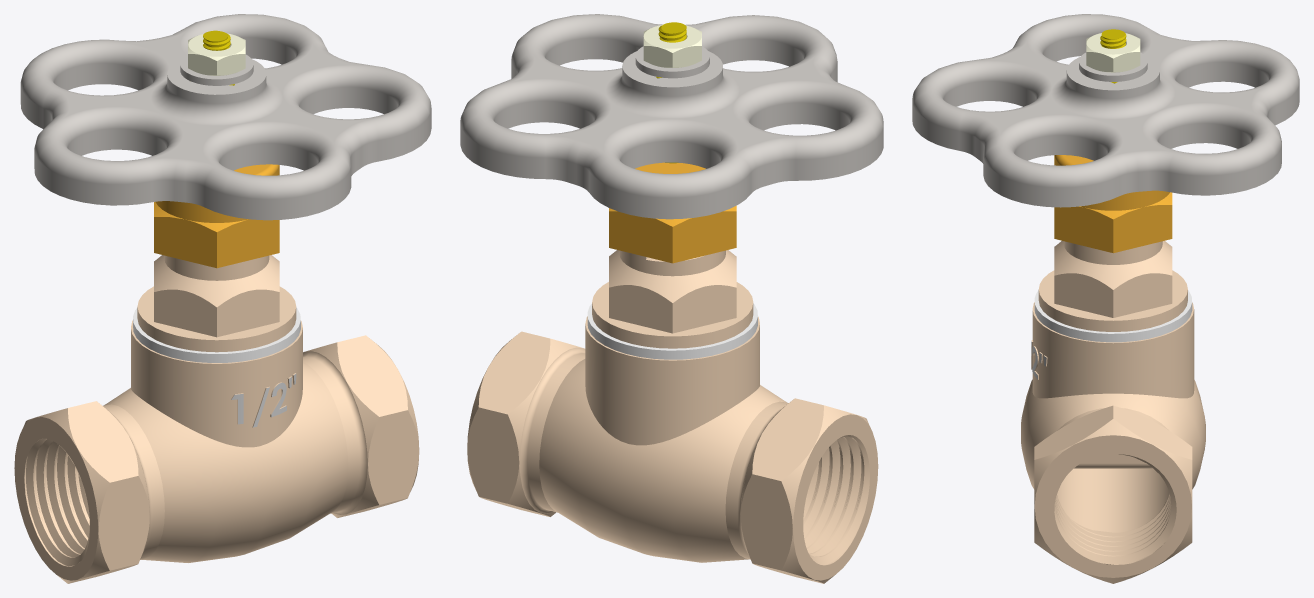
File: valve_anim.gltf
3 views of the same model, side by side, from view 1: azimuth 30°, elevation 25°; view 2: azimuth 150°, elevation 25°; view 3: azimuth 270°, elevation 25° (orthographic). The views are drawn at different scales.
Visible parts, largest first — view 1: Основание, Штурвал, Крышка, Гайка-2, Прокладка, Гайка.001, Шайба.001, Размерная налпись; view 2: Основание, Штурвал, Крышка, Гайка-2, Прокладка, Гайка.001, Шайба.001, Шпиндель; view 3: Штурвал, Основание, Крышка, Гайка-2, Прокладка, Гайка.001, Шайба.001.
Part boxes in pixels (x1,y1,x2,y2): Основание: (14,320,419,583); Штурвал: (20,14,431,220); Крышка: (137,255,296,352); Гайка-2: (154,164,279,268); Прокладка: (133,307,300,362); Гайка.001: (188,33,245,75); Шайба.001: (180,54,253,85); Размерная налпись: (231,373,296,427); Основание: (467,316,878,583); Штурвал: (460,14,883,219); Крышка: (592,250,753,348); Гайка-2: (609,162,736,263); Прокладка: (587,303,757,359); Гайка.001: (643,25,701,67); Шайба.001: (635,46,709,78); Шпиндель: (656,22,686,163); Штурвал: (912,14,1299,207); Основание: (1021,302,1205,583); Крышка: (1038,240,1187,331); Гайка-2: (1054,155,1172,253); Прокладка: (1034,290,1192,342); Гайка.001: (1086,33,1140,72); Шайба.001: (1079,52,1147,81).
Size of the model in its own units: 0.4439 by 0.606 by 0.441.
